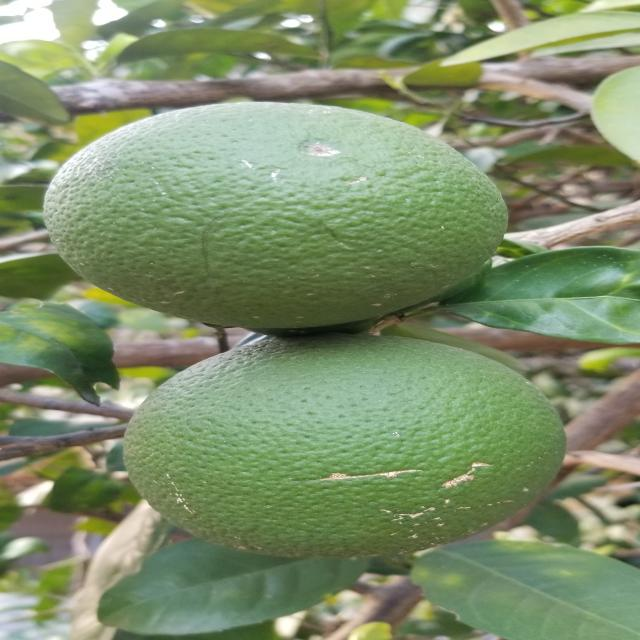Unripe: (42, 105, 510, 324), (137, 335, 562, 560)
